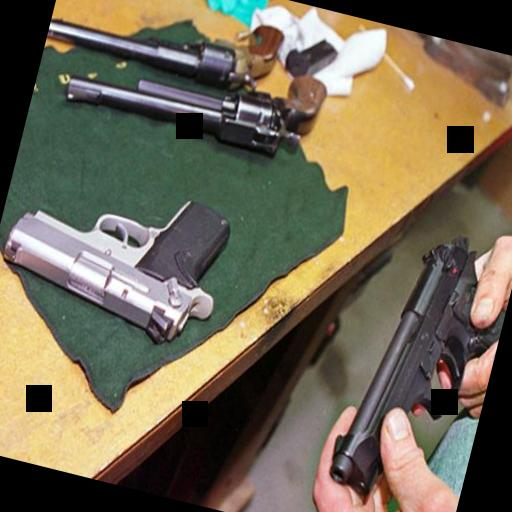Handgun: (306, 196, 512, 512), (0, 137, 246, 368), (57, 11, 329, 162), (46, 0, 287, 93)
